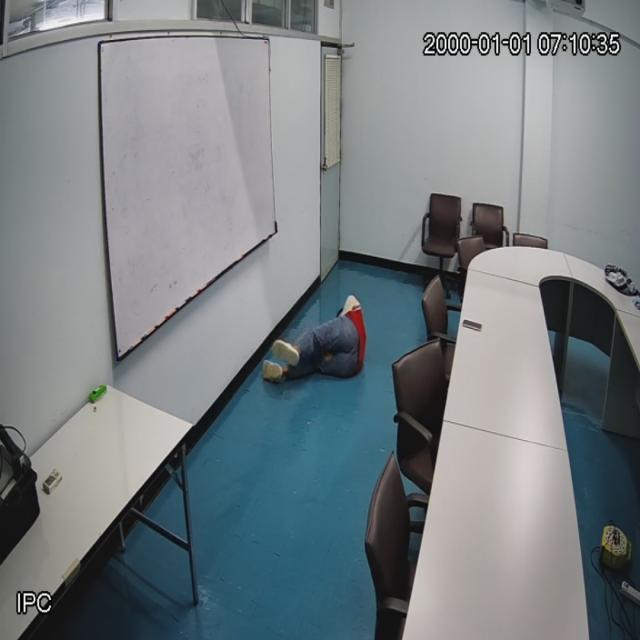fall: (264, 294, 367, 380)
